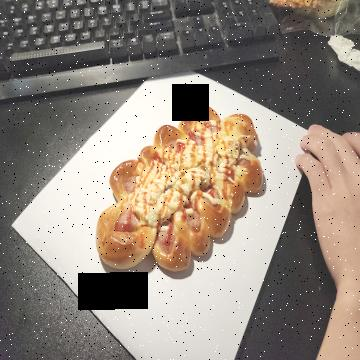pizza_bread: (93, 105, 263, 271)
